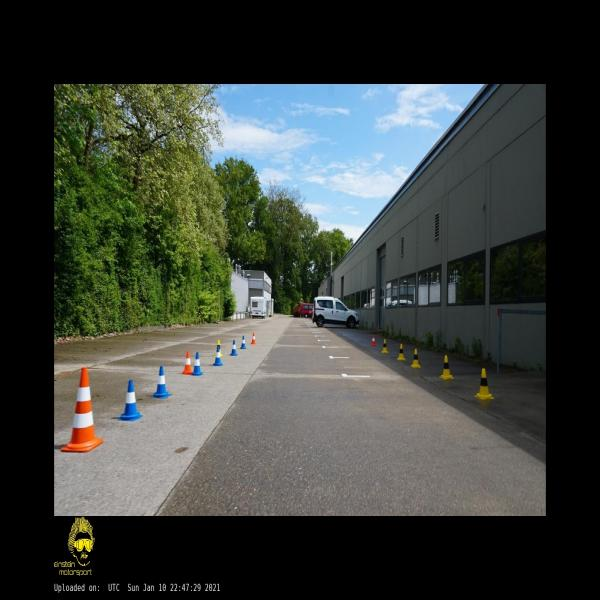blue_cone: (117, 379, 143, 420), (152, 366, 170, 398), (192, 352, 203, 376), (213, 346, 223, 366), (230, 340, 238, 356), (240, 335, 247, 350)
large_orange_cone: (61, 368, 104, 452)
orange_cone: (182, 352, 192, 374), (250, 332, 256, 344), (371, 334, 376, 346)
yellow_cone: (475, 368, 494, 400), (439, 355, 454, 379), (411, 348, 421, 368), (397, 344, 406, 360), (217, 340, 223, 356), (382, 339, 388, 353)
